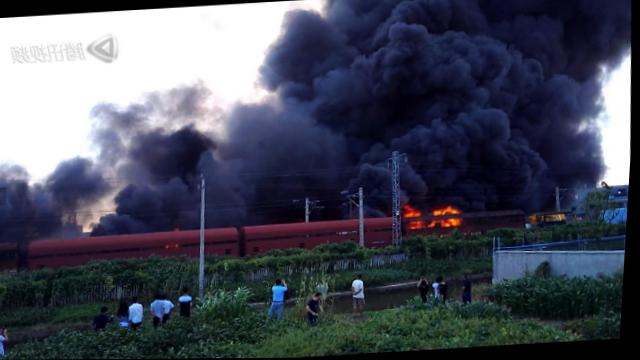fire: (436, 205, 464, 215), (413, 220, 439, 229), (443, 218, 465, 228), (408, 208, 424, 216)
